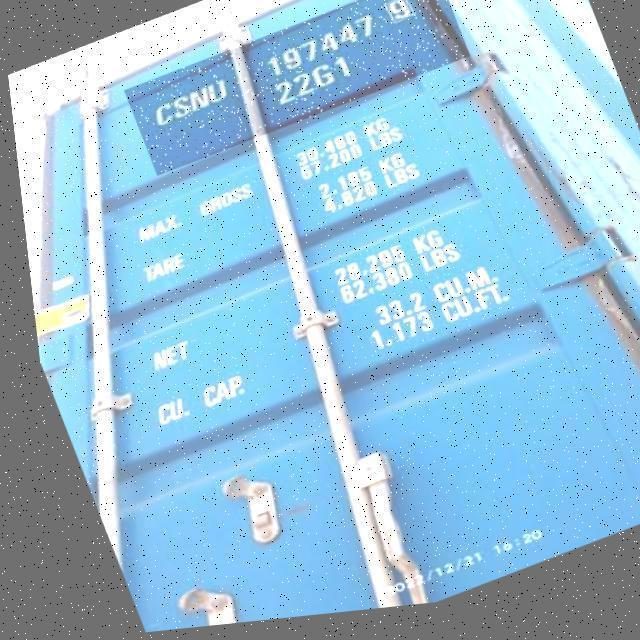ISO: (268, 49, 355, 112)
container_number: (144, 0, 413, 126)
